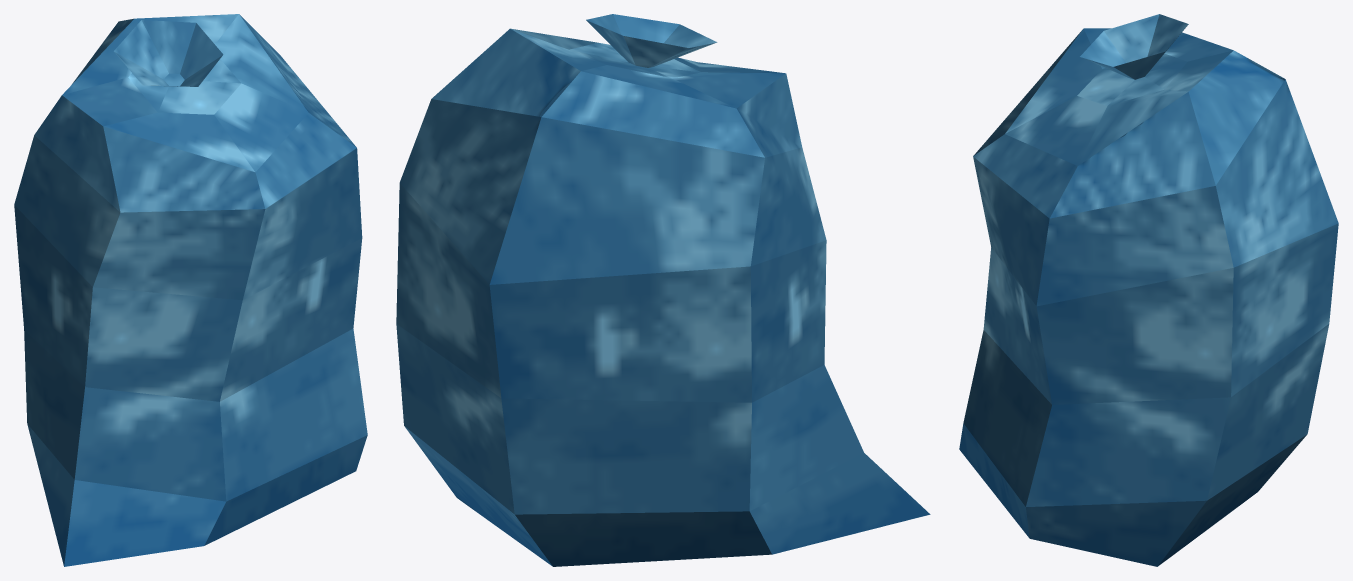
Rendered from Urban_Trashbag2Blue_Model.fbx.
The picture shows the model from 3 angles, left to right: view 1: azimuth 30°, elevation 25°; view 2: azimuth 150°, elevation 25°; view 3: azimuth 270°, elevation 25°; orthographic projection. The views are drawn at different scales.
Parts seen in each view (by area): view 1: Urban_Trashbag2Blue_Mesh; view 2: Urban_Trashbag2Blue_Mesh; view 3: Urban_Trashbag2Blue_Mesh.
Boxes of the visible parts, bbox=[...] form: Urban_Trashbag2Blue_Mesh: bbox=[14, 14, 367, 566]; Urban_Trashbag2Blue_Mesh: bbox=[396, 14, 930, 566]; Urban_Trashbag2Blue_Mesh: bbox=[959, 14, 1338, 566].
Size of the model in its own units: 0.8555 by 1.04 by 0.7744.
